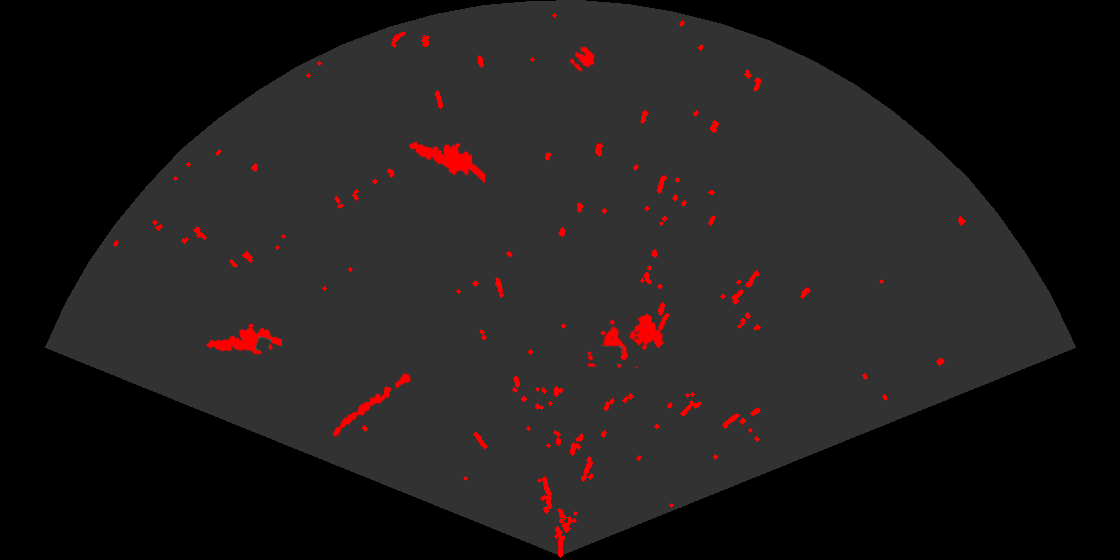ball: (568, 45, 596, 73)
cage: (588, 312, 666, 368)
chain: (331, 372, 413, 438)
frogman: (407, 140, 485, 185), (204, 322, 282, 356)
